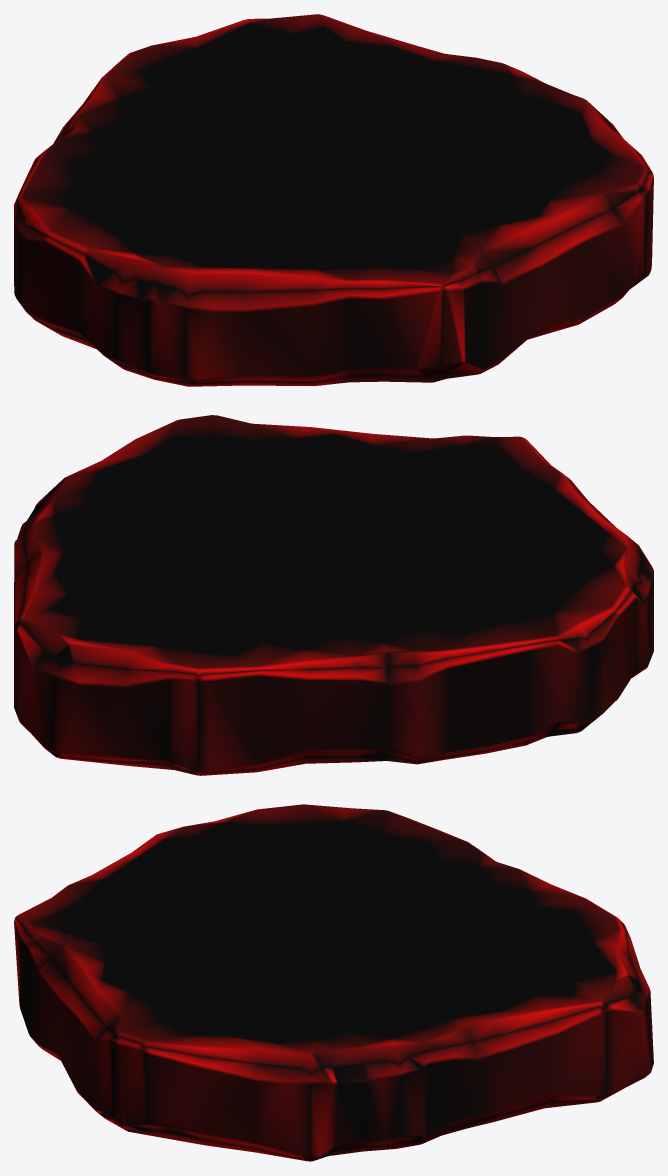
Rendered from SM_FX_Platform_03.FBX.
The picture shows the model from 3 angles, top to bottom: view 1: azimuth 30°, elevation 25°; view 2: azimuth 150°, elevation 25°; view 3: azimuth 270°, elevation 25°; orthographic projection. The views are drawn at different scales.
Visible parts, largest first — view 1: SM_FX_Platform_03; view 2: SM_FX_Platform_03; view 3: SM_FX_Platform_03.
Part boxes in pixels (x1,y1,x2,y2): SM_FX_Platform_03: [14, 14, 653, 386]; SM_FX_Platform_03: [14, 415, 653, 775]; SM_FX_Platform_03: [14, 804, 653, 1161].
Size of the model in its own units: 523 by 539 by 96.
